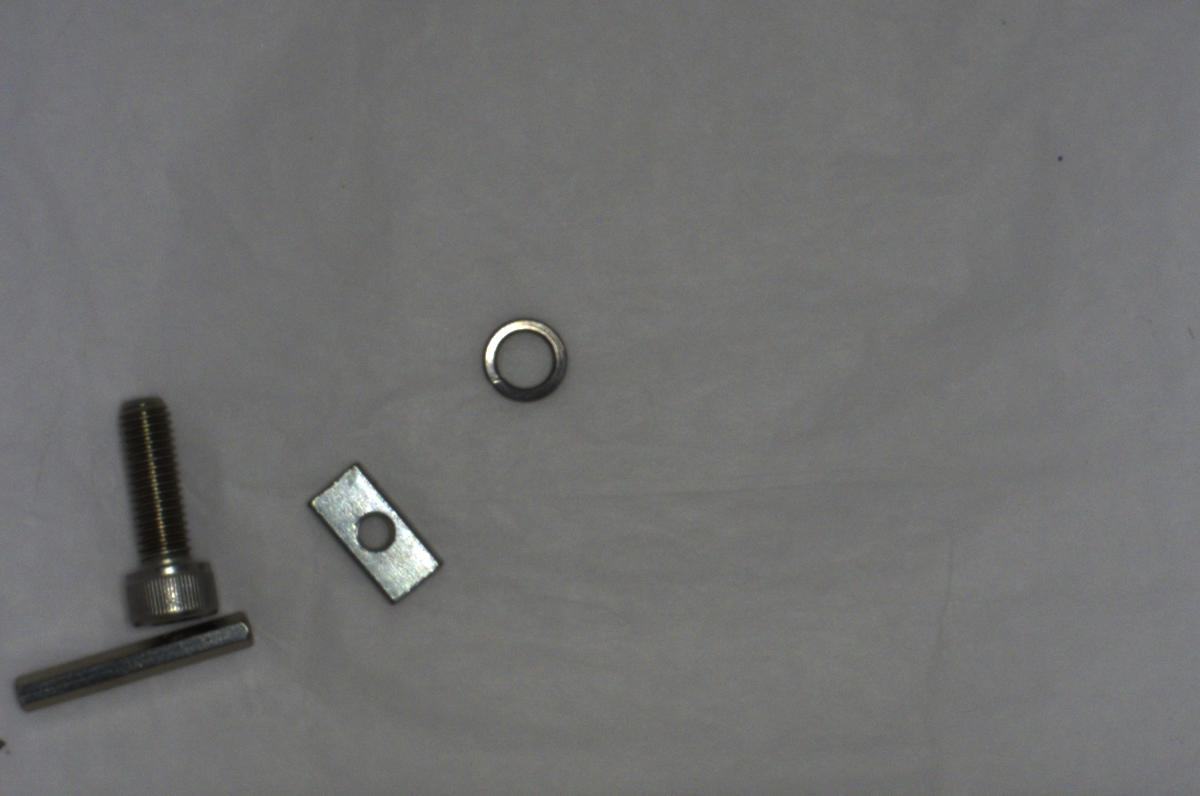Double hexagonal column: (8, 607, 265, 722)
Hexagon screw: (111, 387, 221, 626)
Rectangular nut: (307, 456, 439, 601)
Spring washer: (467, 305, 577, 413)
